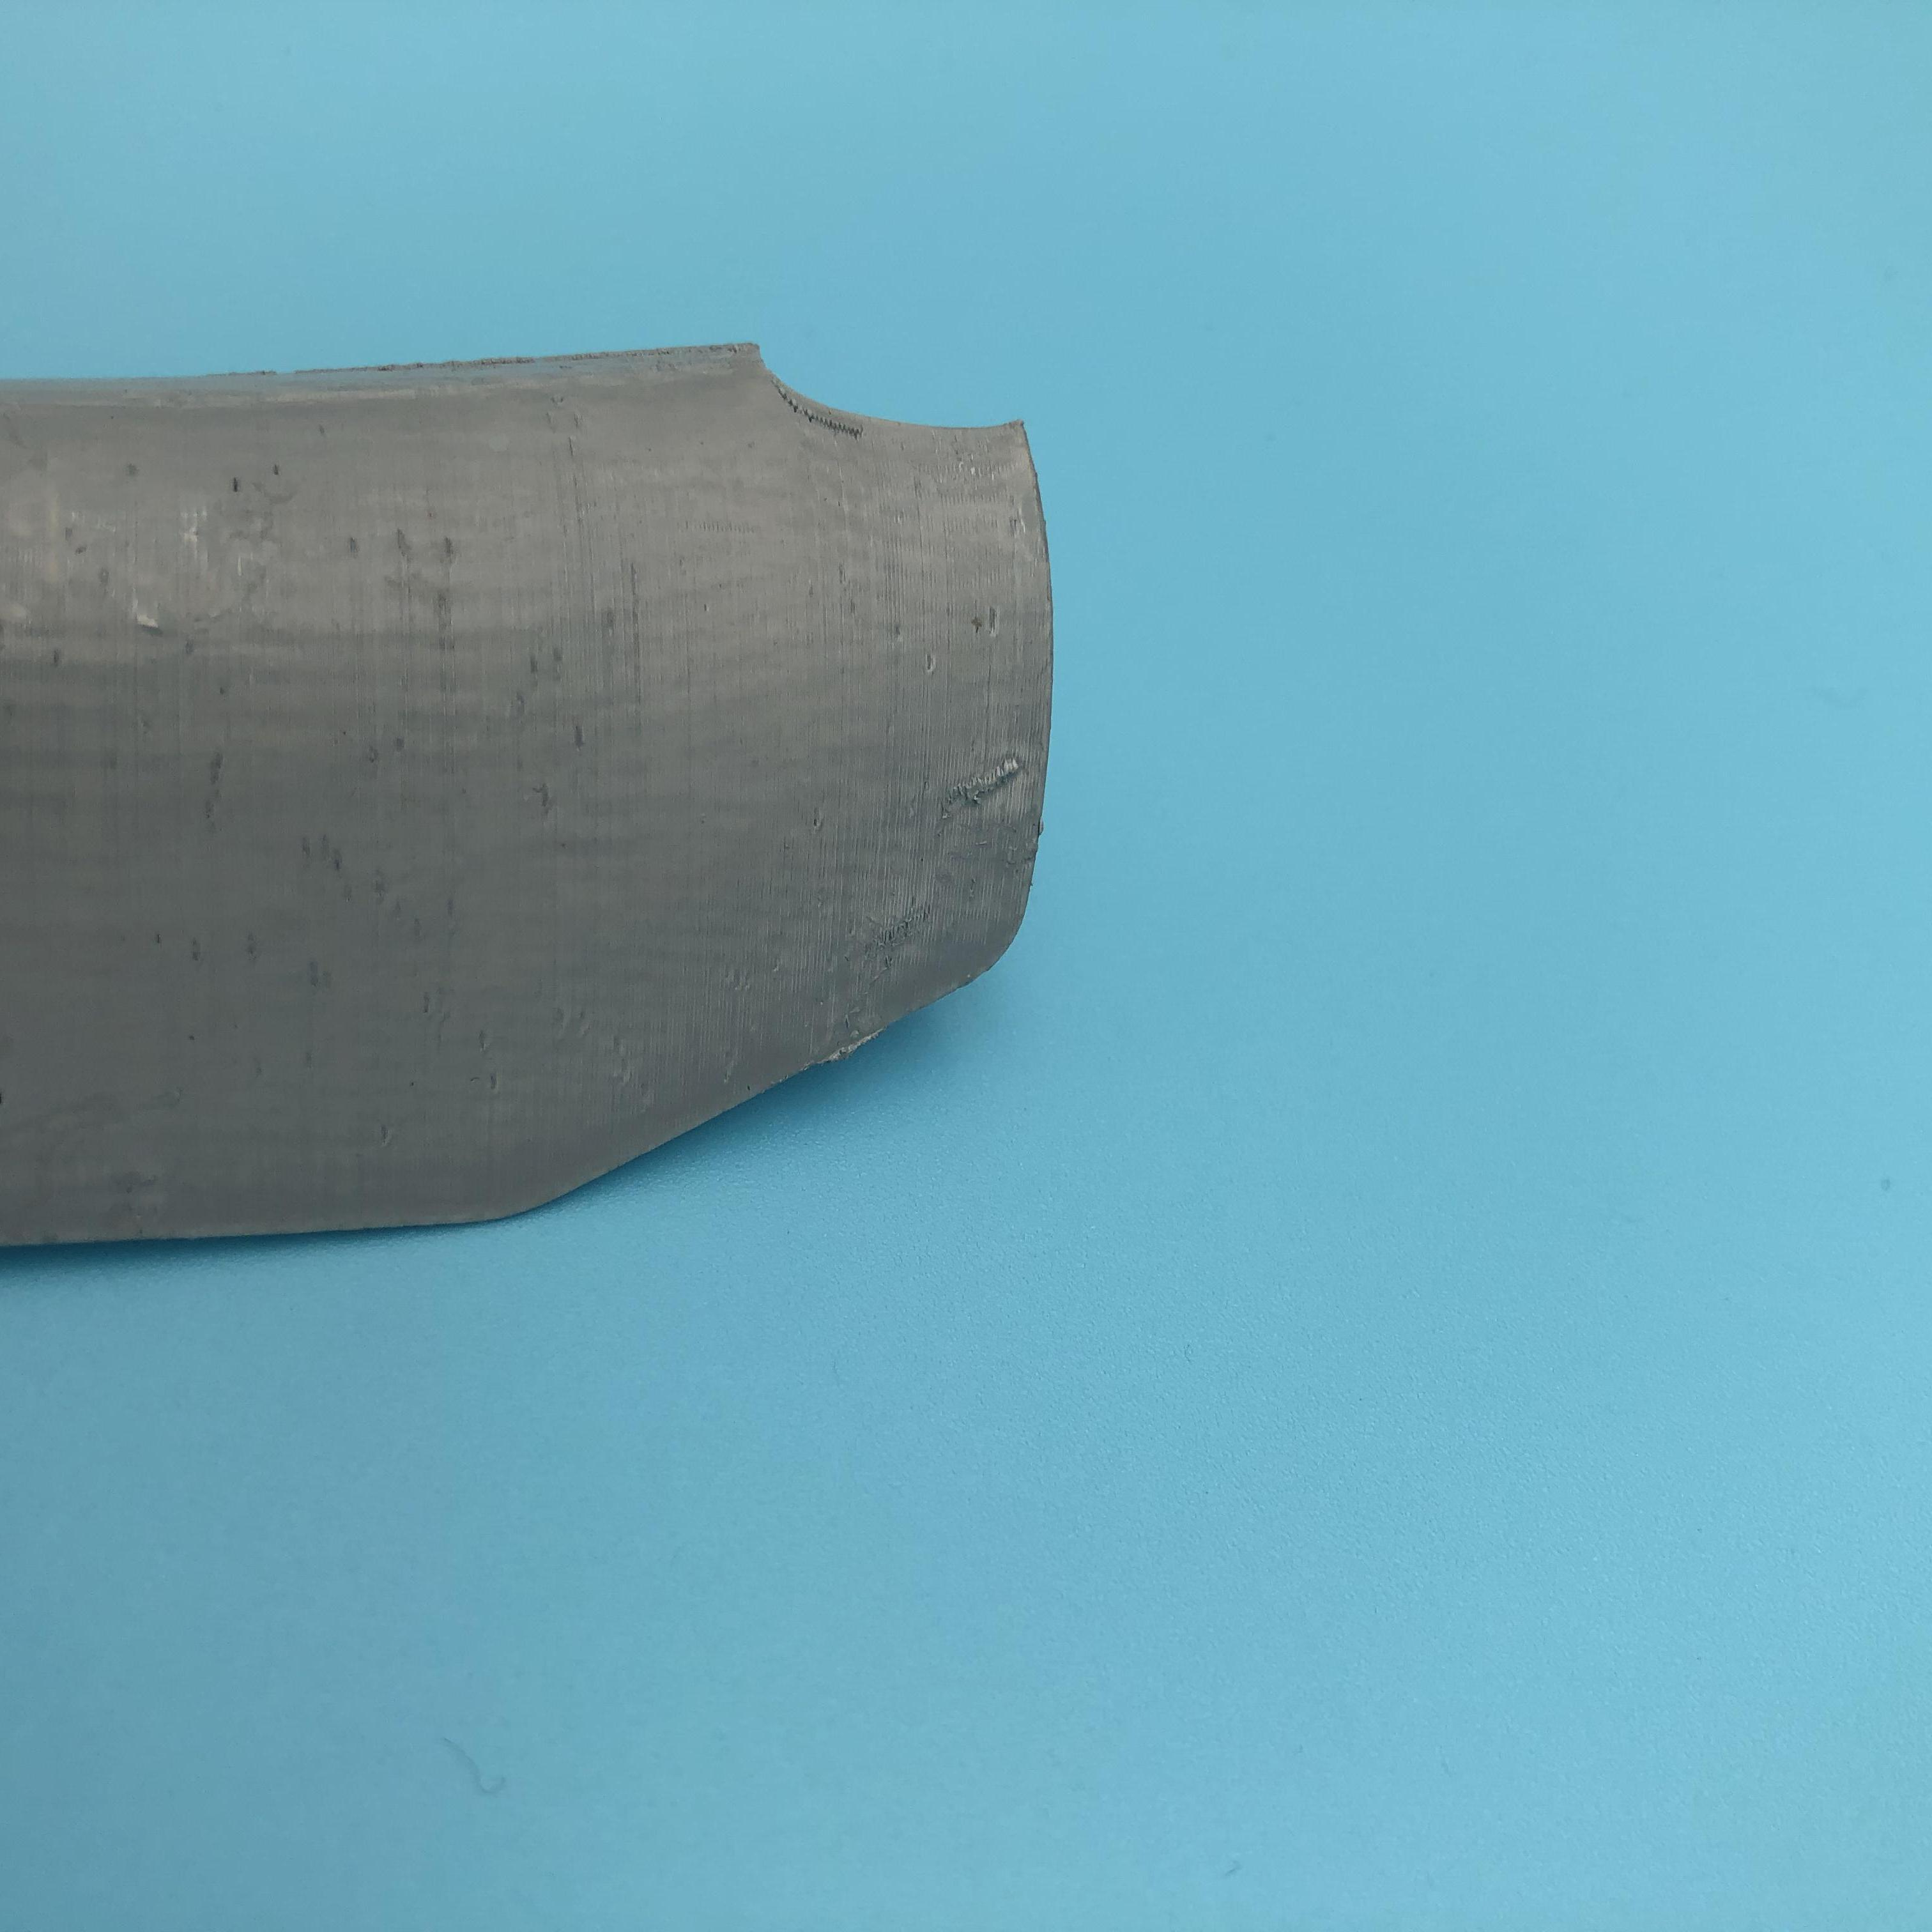fracture: (727, 333, 1026, 478)
